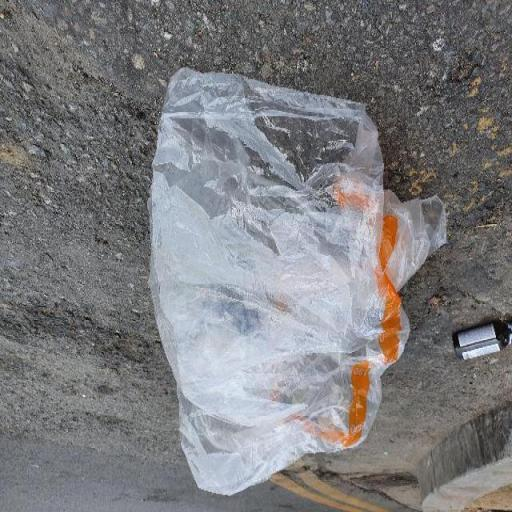plastic-bag: (144, 60, 454, 496)
